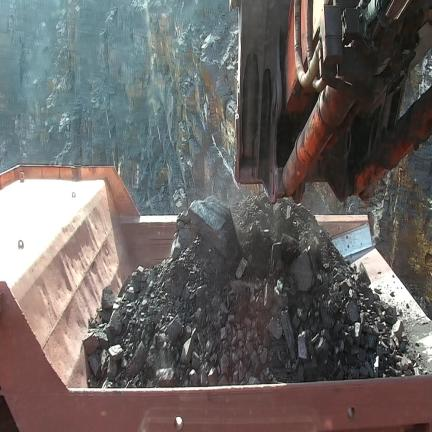pile: (84, 195, 418, 385)
